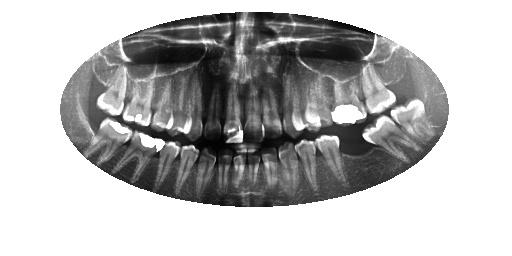i10decay: (215, 143, 232, 199)
i11chipped: (195, 144, 217, 200)
i12healthy: (171, 140, 203, 196)
i13healthy: (149, 129, 184, 196)
i14healthy: (111, 120, 165, 189)
i15healthy: (78, 109, 135, 169)
i16loss: (69, 99, 109, 145)
i1healthy: (387, 92, 437, 142)
i2healthy: (354, 111, 425, 162)
i3loss: (328, 117, 384, 171)
i4healthy: (311, 128, 347, 187)
i5healthy: (290, 135, 321, 197)
i6healthy: (276, 136, 303, 201)
i7decay: (258, 138, 279, 199)
i8decay: (242, 138, 262, 194)
i9healthy: (227, 144, 247, 198)
u10decay: (197, 66, 225, 143)
u11healthy: (182, 68, 203, 141)
u12healthy: (165, 66, 193, 139)
u13healthy: (148, 62, 175, 135)
u14healthy: (121, 61, 160, 129)
u15healthy: (92, 60, 133, 122)
u2healthy: (355, 50, 401, 117)
u3healthy: (326, 67, 374, 132)
u4healthy: (301, 58, 335, 129)
u5healthy: (288, 69, 326, 135)
u6healthy: (280, 64, 304, 139)
u7healthy: (255, 68, 289, 145)
u8healthy: (234, 66, 267, 142)
u9healthy: (221, 67, 245, 147)
